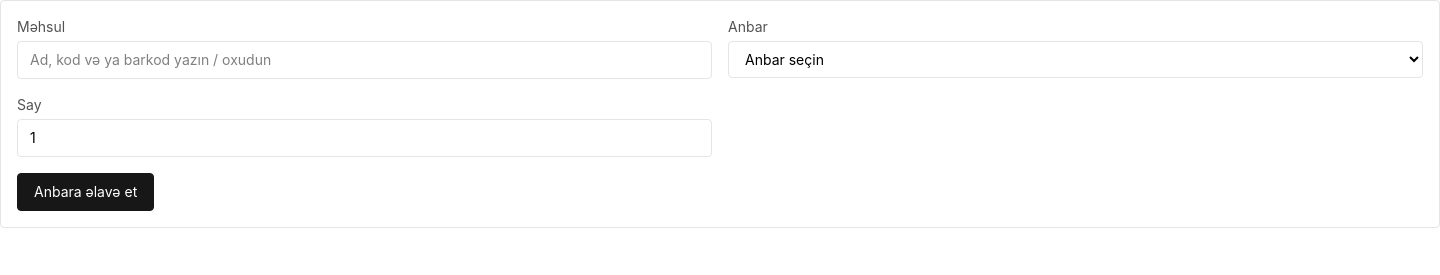
Test case: ReceiveStockForm product picker › filters as you type and selects with a click
Click the dropdown labelled "Məhsul" at (364, 60), box [17, 41, 712, 79]
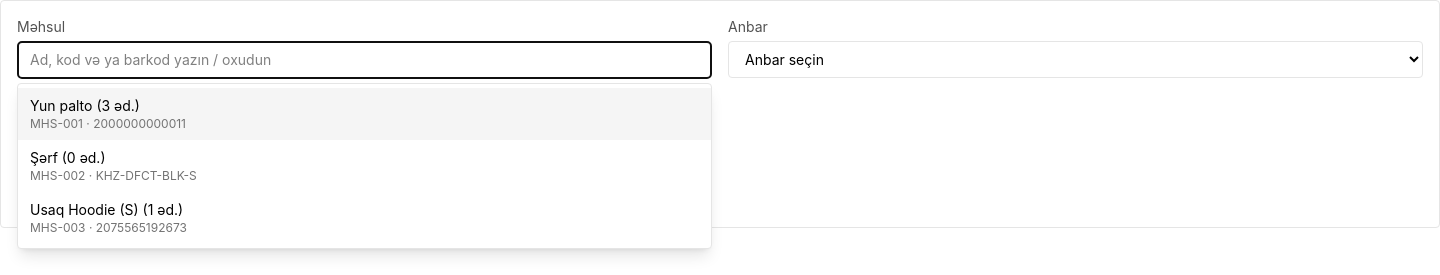
Now the number of options is 3, box [18, 88, 711, 140]; [30, 149, 197, 183]; [30, 201, 187, 235]
Type "hoo" into the dropdown labelled "Məhsul" at (364, 60), box [17, 41, 712, 79]
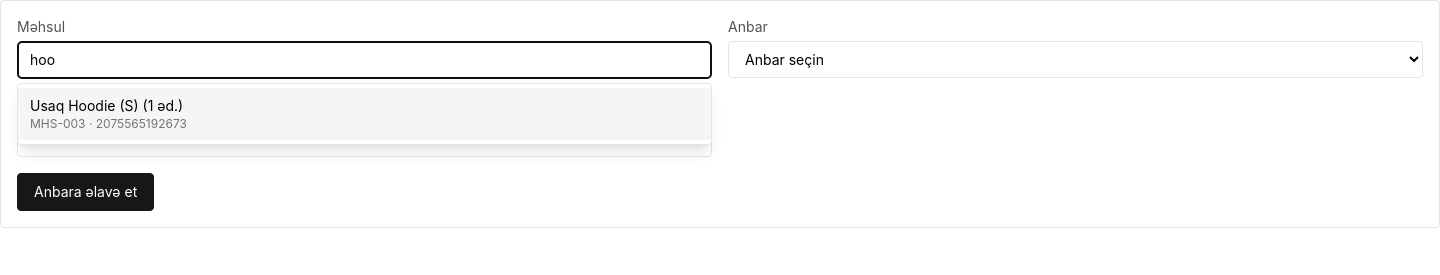
Now the number of options is 1
Click the option "Usaq Hoodie (S) (1 əd.) MHS-003 · 2075565192673" at (107, 106), box [18, 88, 711, 140]
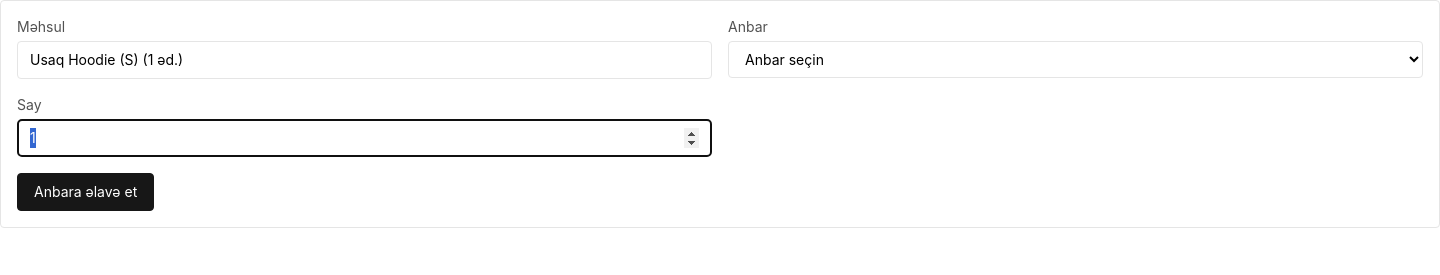
Now the dropdown labelled "Məhsul" holds "Usaq Hoodie (S) (1 əd.)", box [17, 41, 712, 79]
